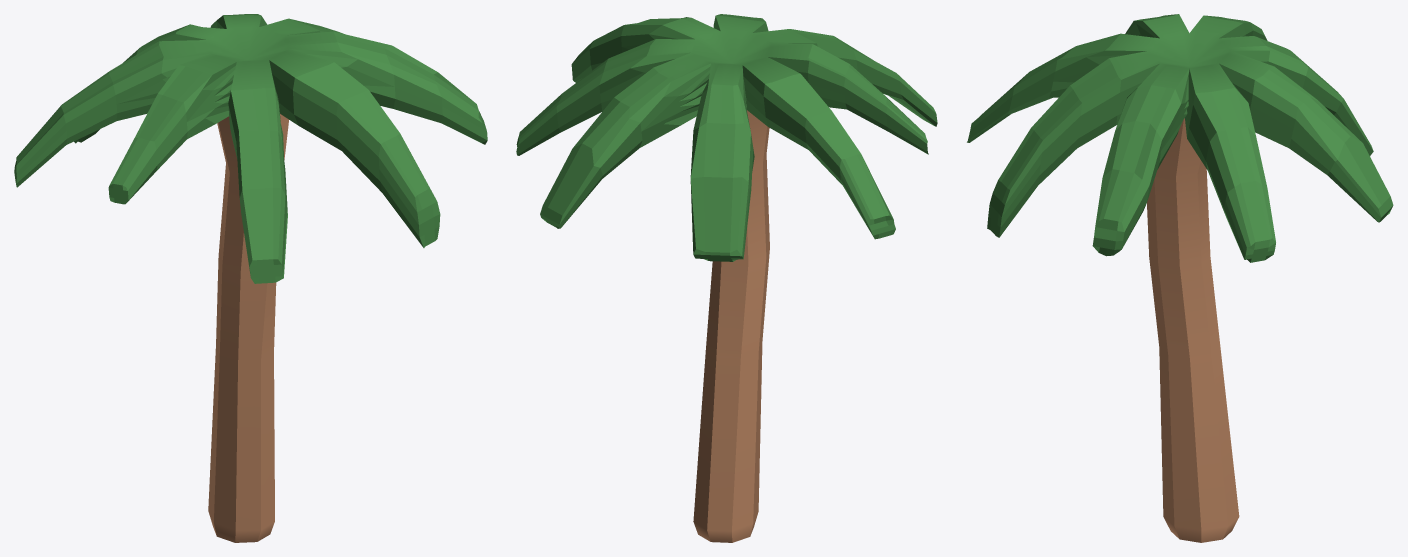
The model's file is Bananero.fbx.
3 renders of one model, left to right at view 1: azimuth 30°, elevation 25°; view 2: azimuth 150°, elevation 25°; view 3: azimuth 270°, elevation 25°, orthographic. The views are drawn at different scales.
Visible parts, largest first — view 1: pCylinder1; view 2: pCylinder1; view 3: pCylinder1.
Part boxes in pixels (left/top/right/bottom): pCylinder1: left=14, top=14, right=487, bottom=542; pCylinder1: left=516, top=14, right=937, bottom=542; pCylinder1: left=967, top=14, right=1393, bottom=542.
Size of the model in its own units: 115 by 136 by 109.
